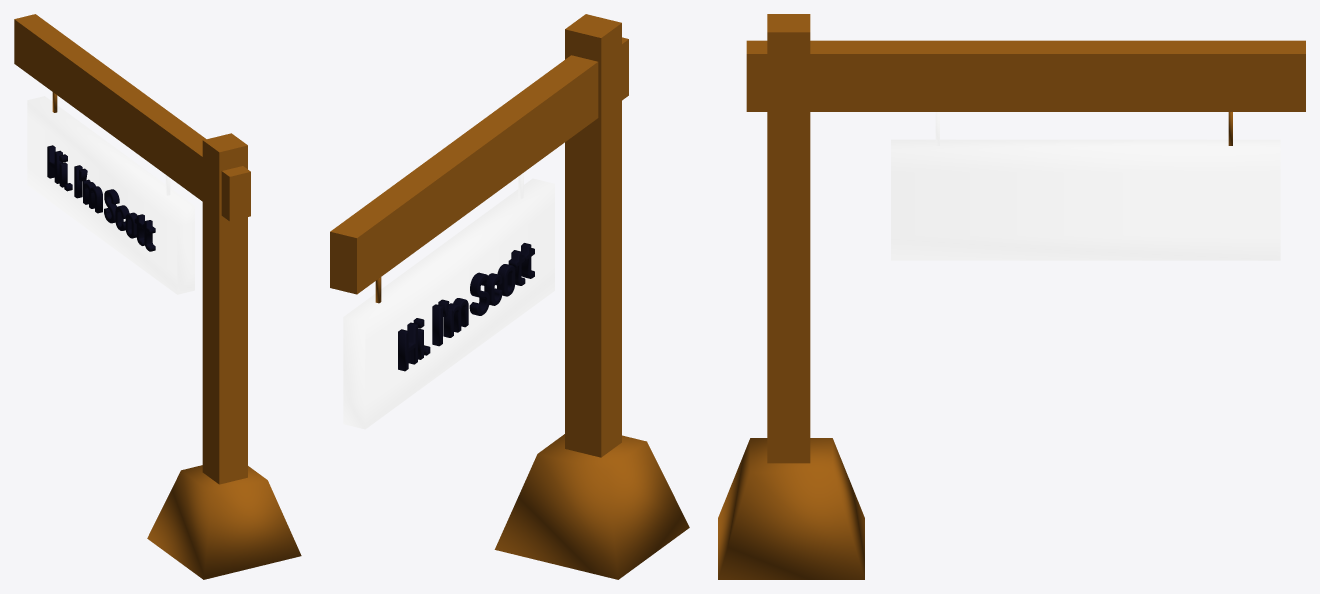
Rendered from intro-sign.glb.
3 views of the same model, side by side, from view 1: azimuth 30°, elevation 25°; view 2: azimuth 150°, elevation 25°; view 3: azimuth 270°, elevation 25° (orthographic). The views are drawn at different scales.
Visible parts, largest first — view 1: Text; view 2: Text; view 3: Text.
Boxes of the visible parts, box(x1,y1,x2,y2) form: Text: box(14, 14, 301, 579); Text: box(330, 14, 689, 579); Text: box(718, 14, 1305, 579).
Bounding box in the file's own units: 2 × 7.9 × 8.01.
